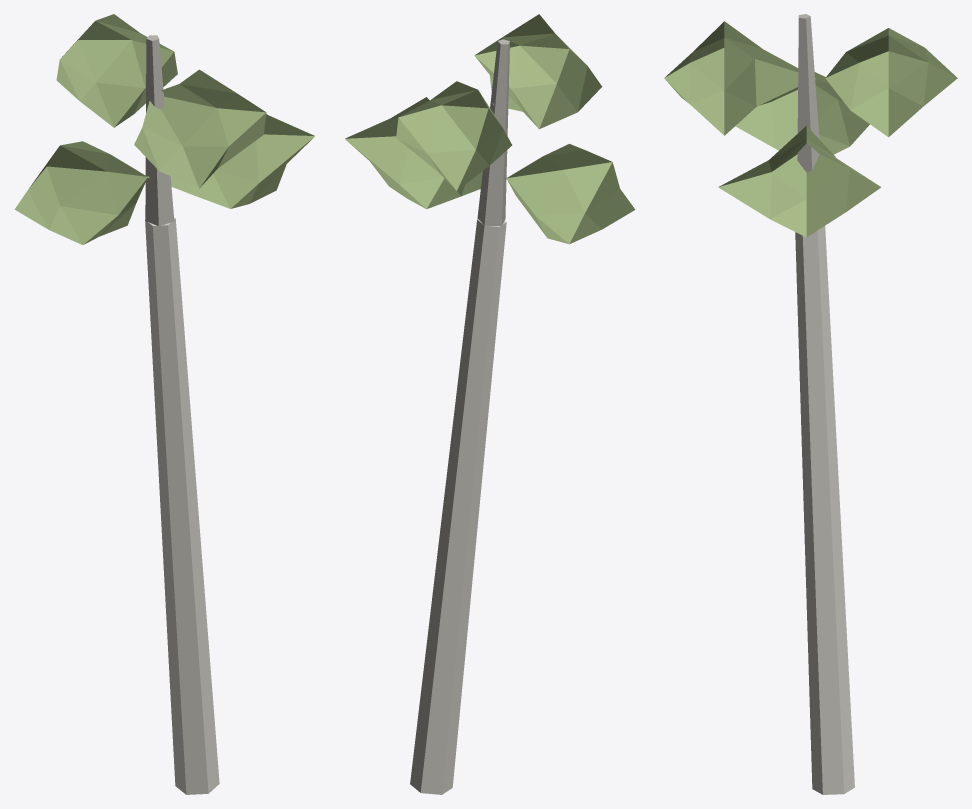
The model's file is birch_v24.glb.
The picture shows the model from 3 angles, left to right: view 1: azimuth 30°, elevation 25°; view 2: azimuth 150°, elevation 25°; view 3: azimuth 270°, elevation 25°; orthographic projection. The views are drawn at different scales.
Parts seen in each view (by area): view 1: lod0; view 2: lod0; view 3: lod0.
Boxes of the visible parts, <box> form: lod0: <box>14,14,314,794</box>; lod0: <box>345,14,635,794</box>; lod0: <box>664,14,957,794</box>.
Size of what is drawn, in the model's own units: 2.04 by 5.01 by 1.79.
